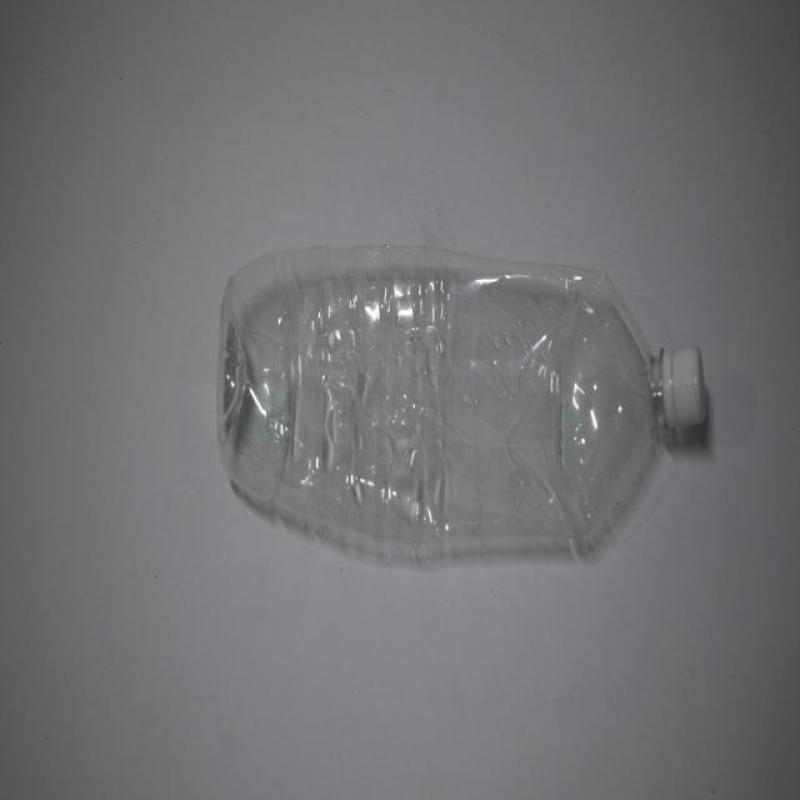botella: (215, 241, 704, 570)
